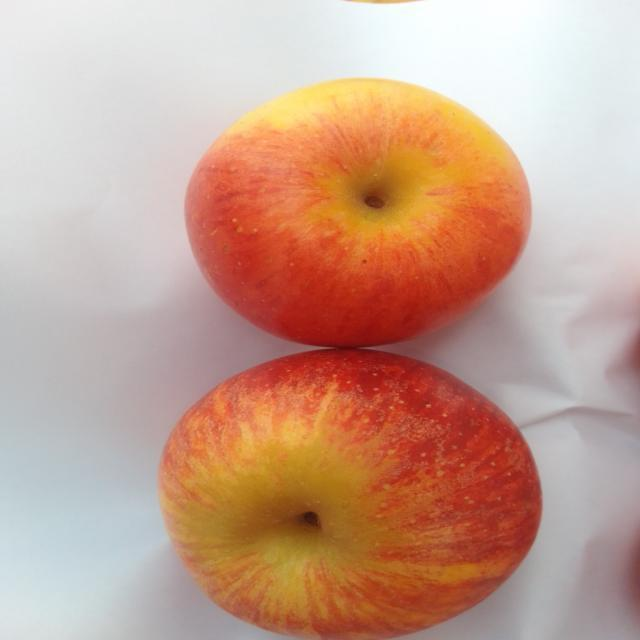Fresh Apple: (153, 355, 540, 623), (187, 86, 533, 346)
